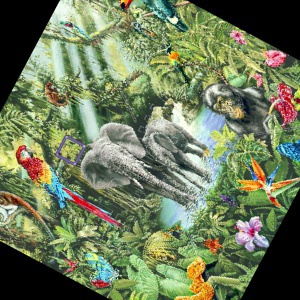square: (53, 134, 87, 167)
